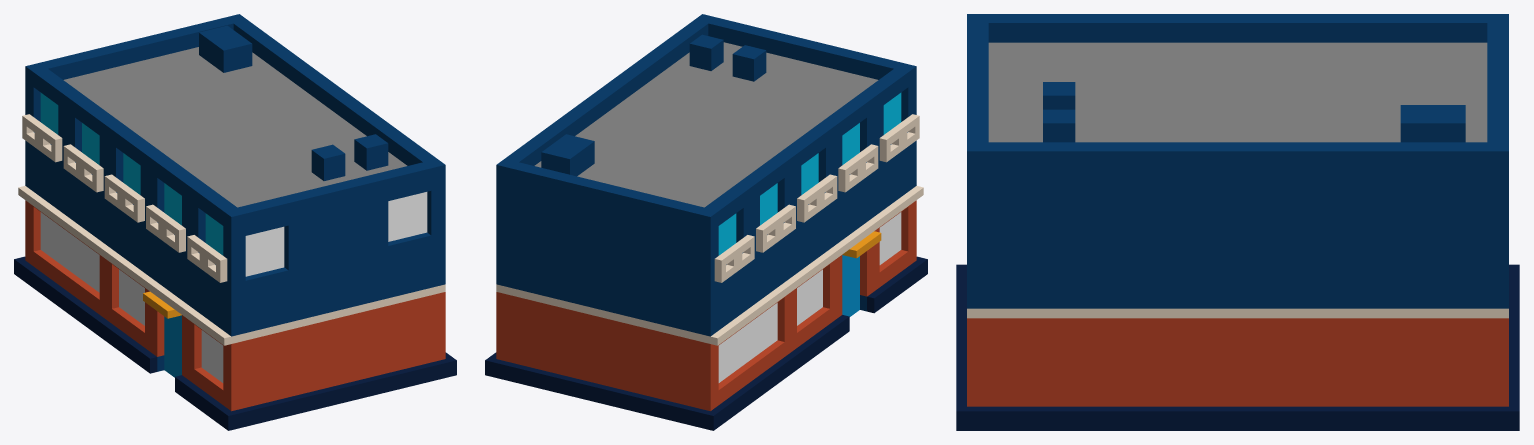
The model's file is shop.glb.
3 renders of one model, left to right at view 1: azimuth 30°, elevation 25°; view 2: azimuth 150°, elevation 25°; view 3: azimuth 270°, elevation 25°, orthographic. The views are drawn at different scales.
Parts seen in each view (by area): view 1: House01; view 2: House01; view 3: House01.
Boxes of the visible parts, bbox=[...] form: House01: bbox=[14, 14, 456, 430]; House01: bbox=[485, 14, 927, 430]; House01: bbox=[956, 14, 1519, 430].
Size of the model in its own units: 3.3 by 2.9 by 5.2.
1 material, 1 textured.
